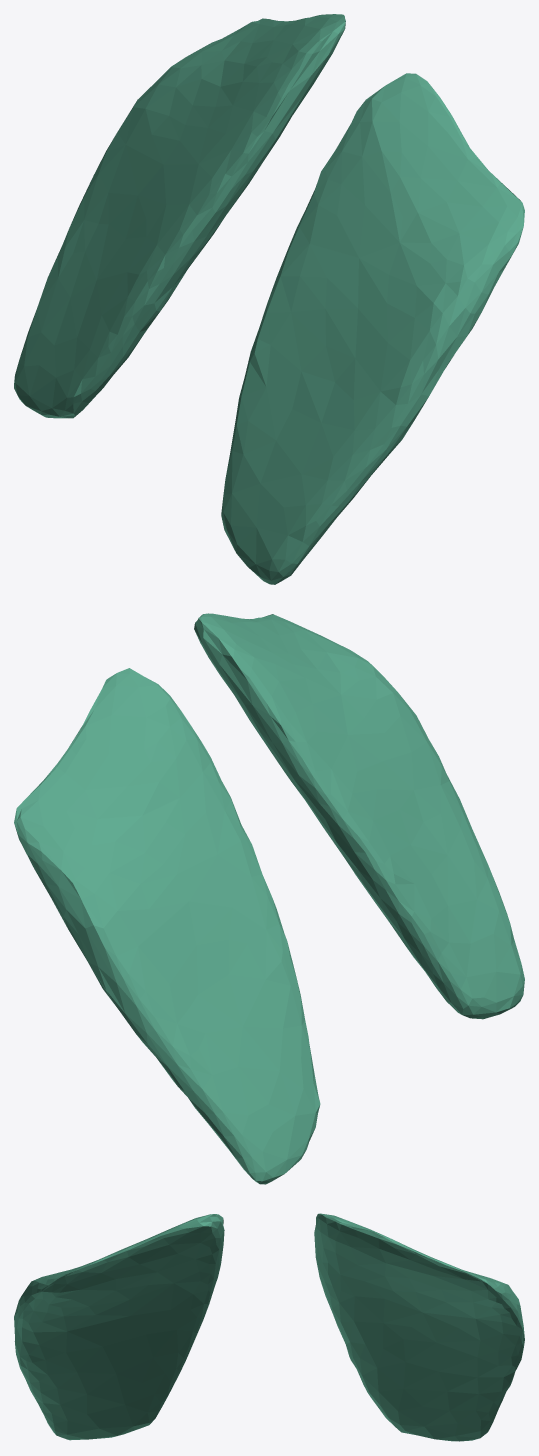
3 views of the same model, one above another, from view 1: azimuth 30°, elevation 25°; view 2: azimuth 150°, elevation 25°; view 3: azimuth 270°, elevation 25° (orthographic). The views are drawn at different scales.
Visible parts, largest first — view 1: 969.obj; view 2: 969.obj; view 3: 969.obj.
Boxes of the visible parts, x1,y1,x2,y2 form: 969.obj: [14, 14, 524, 584]; 969.obj: [14, 613, 524, 1184]; 969.obj: [14, 1213, 524, 1441].
Size of the model in its own units: 1042 by 1533 by 2241.
